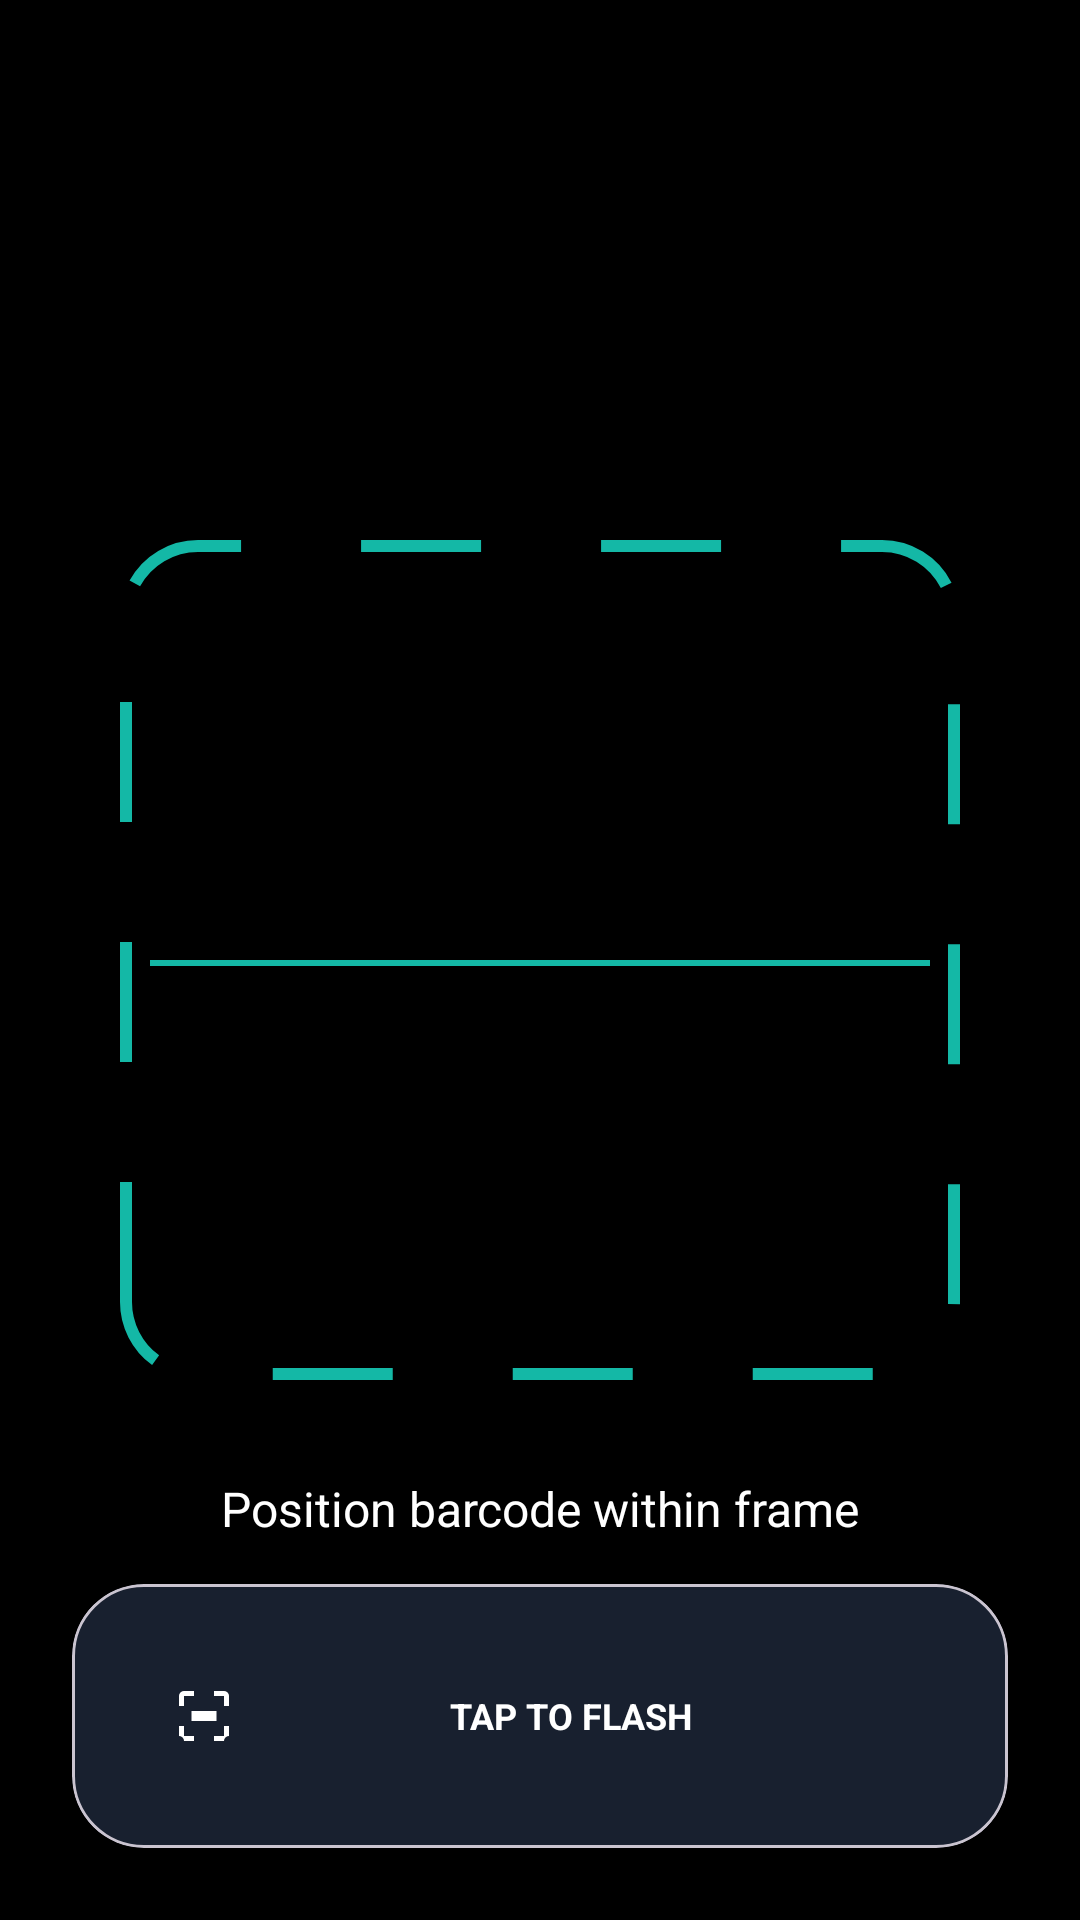

Named icons in this screenshot (1080px×1920px) and their bounding boxes, (x1, y1, x2, y2):
scan: (179, 1691, 229, 1741)
